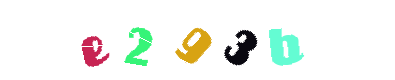2: (155, 0, 235, 80)
3: (187, 0, 267, 80)
9: (156, 0, 236, 80)
B: (202, 0, 282, 80)
E: (60, 0, 140, 80)
